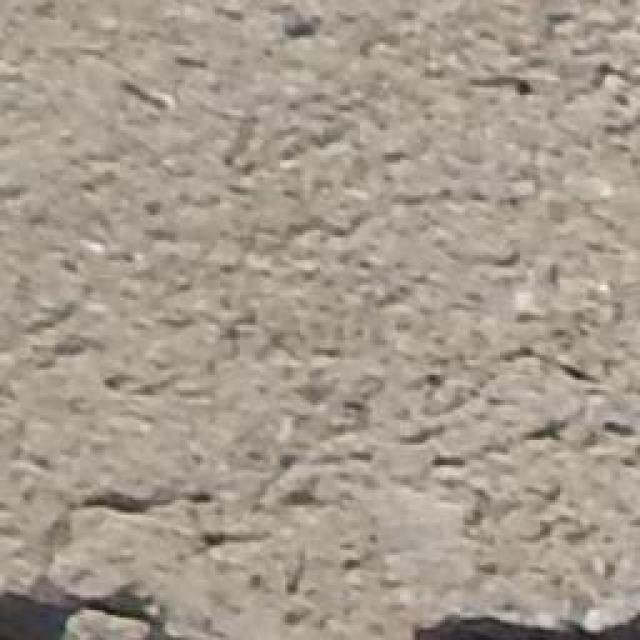concrete-crack: (2, 575, 179, 640), (404, 601, 638, 637), (65, 486, 210, 522)
